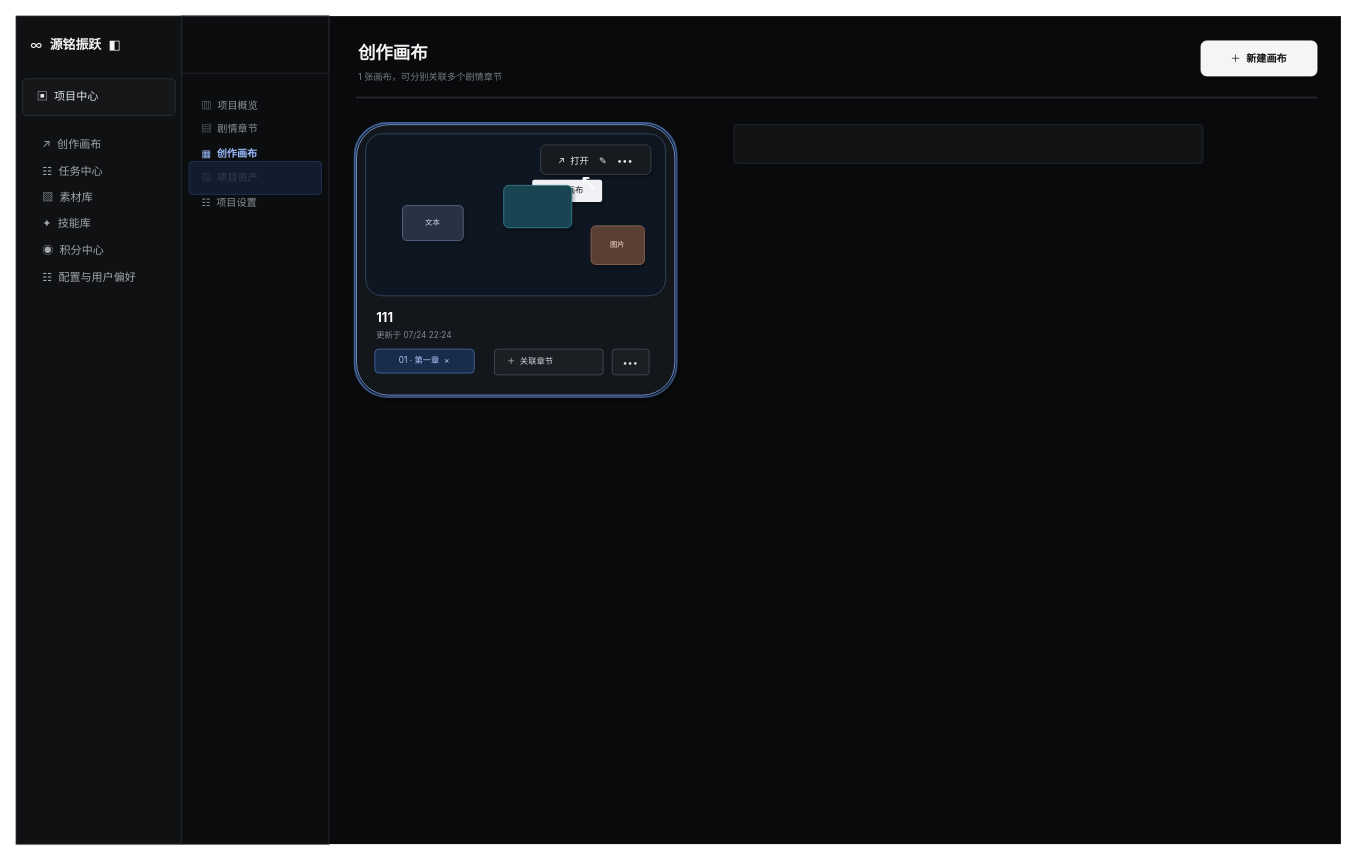
Image size: 1357x860. Some labels were removed from this diagram. Each missing label, with the centre of its shape:
‹ ▱ 测试项目 1 ● 进行中: [255,44]
分镜: [538,207]
悬停反馈：卡片上移 2px，描边变亮，节点表面增强；快捷工具条 160ms 淡入，离开即消失。: [968,143]
